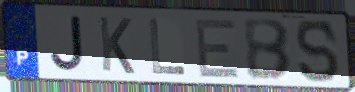B: (241, 18, 294, 83)
E: (193, 18, 242, 80)
J: (48, 14, 85, 75)
K: (96, 14, 136, 76)
L: (147, 17, 188, 77)
S: (294, 18, 342, 85)
